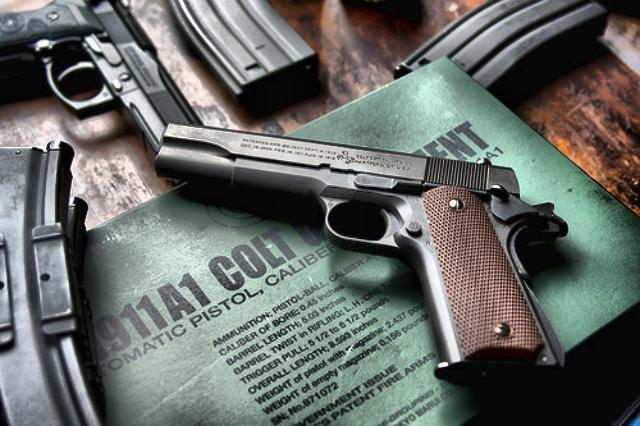pistol: (153, 118, 567, 382), (0, 1, 212, 172)
